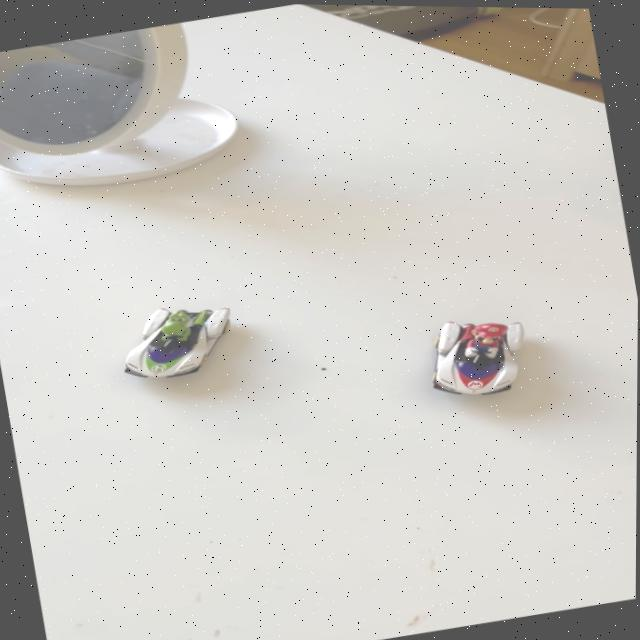mario: (406, 297, 546, 412)
yoshi: (99, 286, 261, 397)
